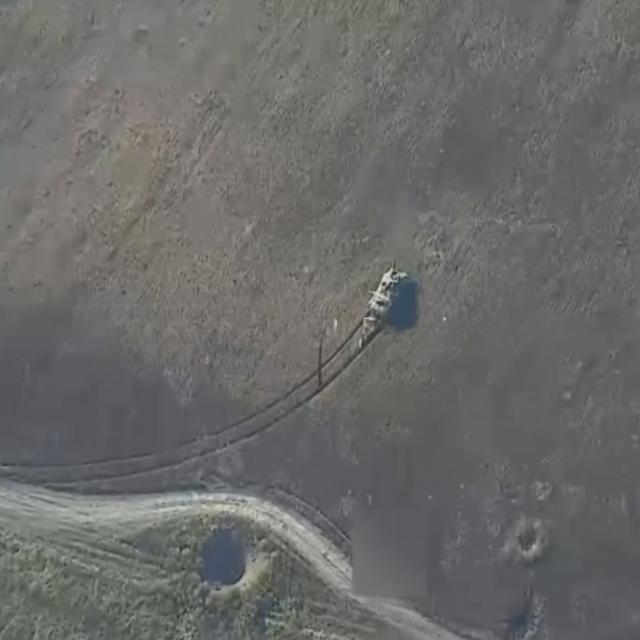MBT: (367, 256, 413, 320)
